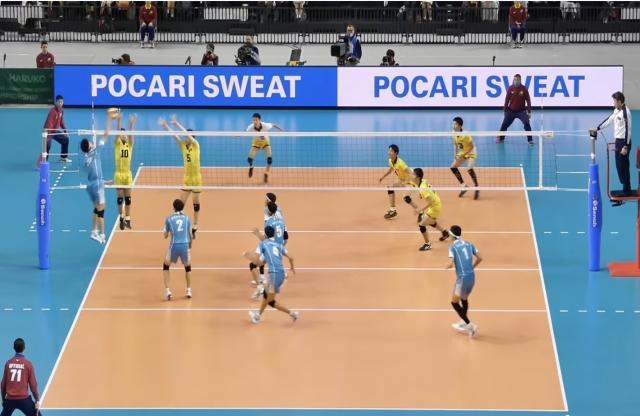spike: (76, 106, 124, 246)
